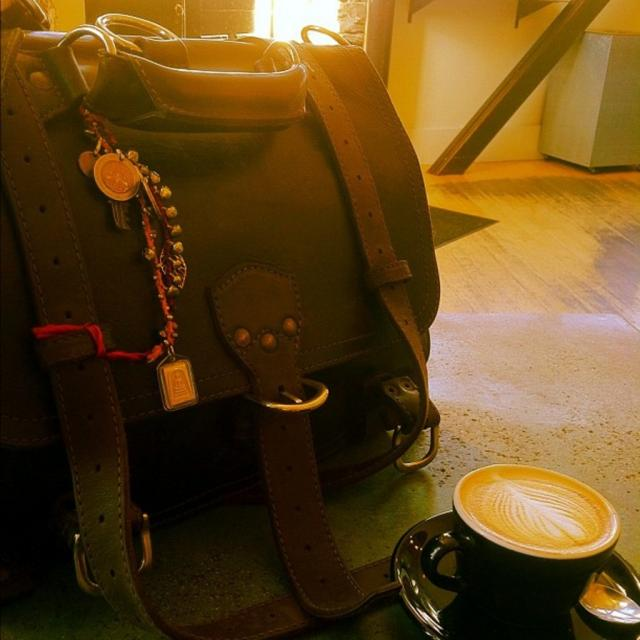Coffee: (456, 462, 616, 554)
